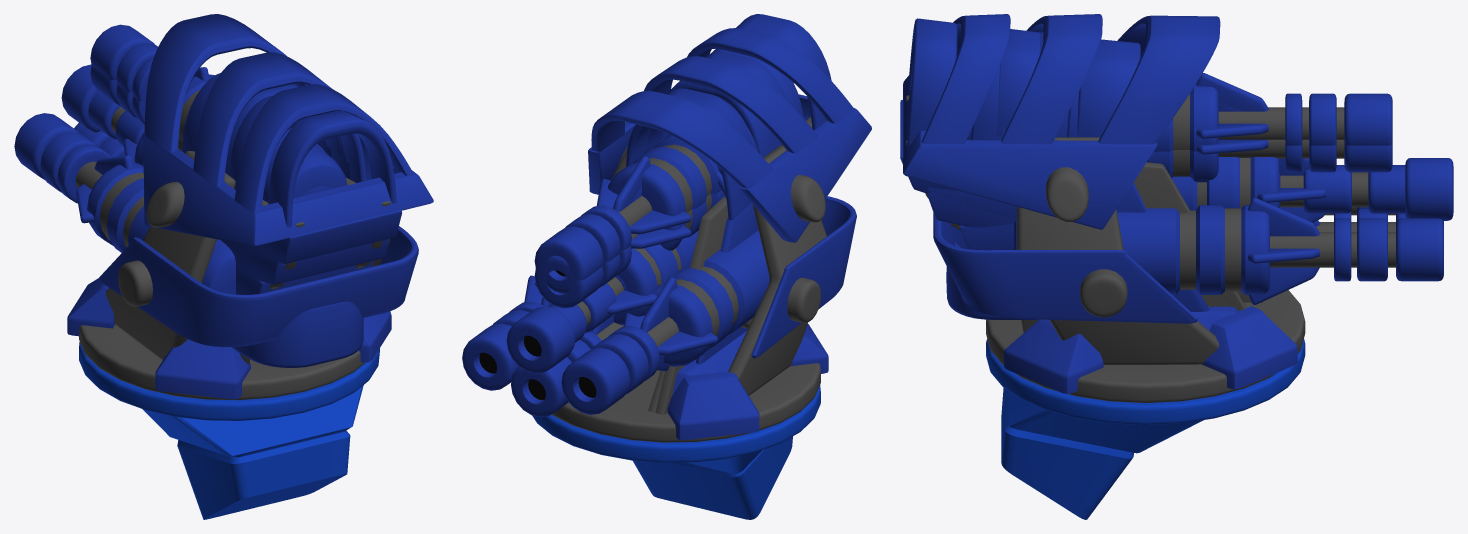
The model's file is Weapon_01_New.fbx.
The picture shows the model from 3 angles, left to right: view 1: azimuth 30°, elevation 25°; view 2: azimuth 150°, elevation 25°; view 3: azimuth 270°, elevation 25°; orthographic projection. The views are drawn at different scales.
Parts seen in each view (by area): view 1: Weapon_01, WeaponHead019, WeaponGun019, WeaponGun017, WeaponHead017, WeaponGun010, WeaponGun009, WeaponGun008, WeaponGun015, WeaponGun011; view 2: Weapon_01, WeaponHead019, WeaponHead017, WeaponGun019, WeaponGun017, WeaponGun010, WeaponGun018, WeaponHead010, WeaponGun012, WeaponGun011, WeaponHead011, WeaponGun008 (+5 smaller); view 3: Weapon_01, WeaponHead018, WeaponGun018, WeaponGun017, WeaponHead017, WeaponHead010, WeaponGun010, WeaponHead011, WeaponGun011, WeaponGun009, WeaponGun008, WeaponHead008 (+2 smaller).
Part boxes in pixels (x1=…): Weapon_01: x1=67, y1=14, x2=433, y2=519; WeaponHead019: x1=76, y1=155, x2=235, y2=294; WeaponGun019: x1=14, y1=113, x2=110, y2=203; WeaponGun017: x1=90, y1=24, x2=157, y2=100; WeaponHead017: x1=178, y1=67, x2=346, y2=202; WeaponGun010: x1=61, y1=64, x2=121, y2=132; WeaponGun009: x1=88, y1=91, x2=125, y2=139; WeaponGun008: x1=115, y1=111, x2=144, y2=146; WeaponGun015: x1=116, y1=84, x2=145, y2=124; WeaponGun011: x1=90, y1=66, x2=120, y2=106; Weapon_01: x1=532, y1=14, x2=871, y2=519; WeaponHead019: x1=623, y1=230, x2=769, y2=371; WeaponHead017: x1=596, y1=103, x2=744, y2=234; WeaponGun019: x1=561, y1=317, x2=678, y2=414; WeaponGun017: x1=534, y1=196, x2=652, y2=293; WeaponGun010: x1=506, y1=283, x2=619, y2=373; WeaponGun018: x1=462, y1=301, x2=544, y2=390; WeaponHead010: x1=608, y1=244, x2=678, y2=325; WeaponGun012: x1=511, y1=322, x2=623, y2=417; WeaponGun011: x1=534, y1=233, x2=638, y2=308; WeaponHead011: x1=631, y1=186, x2=724, y2=250; WeaponGun008: x1=582, y1=277, x2=623, y2=332; Weapon_01: x1=900, y1=14, x2=1305, y2=519; WeaponHead018: x1=1014, y1=197, x2=1320, y2=304; WeaponGun018: x1=1270, y1=218, x2=1443, y2=281; WeaponGun017: x1=1218, y1=93, x2=1392, y2=145; WeaponHead017: x1=967, y1=73, x2=1268, y2=151; WeaponHead010: x1=1174, y1=157, x2=1325, y2=222; WeaponGun010: x1=1280, y1=158, x2=1453, y2=220; WeaponHead011: x1=1147, y1=101, x2=1268, y2=182; WeaponGun011: x1=1218, y1=139, x2=1392, y2=172; WeaponGun009: x1=1280, y1=165, x2=1405, y2=213; WeaponGun008: x1=1280, y1=165, x2=1351, y2=213; WeaponHead008: x1=1172, y1=157, x2=1239, y2=208.
Size of the model in its own units: 89.18 by 146 by 154.
